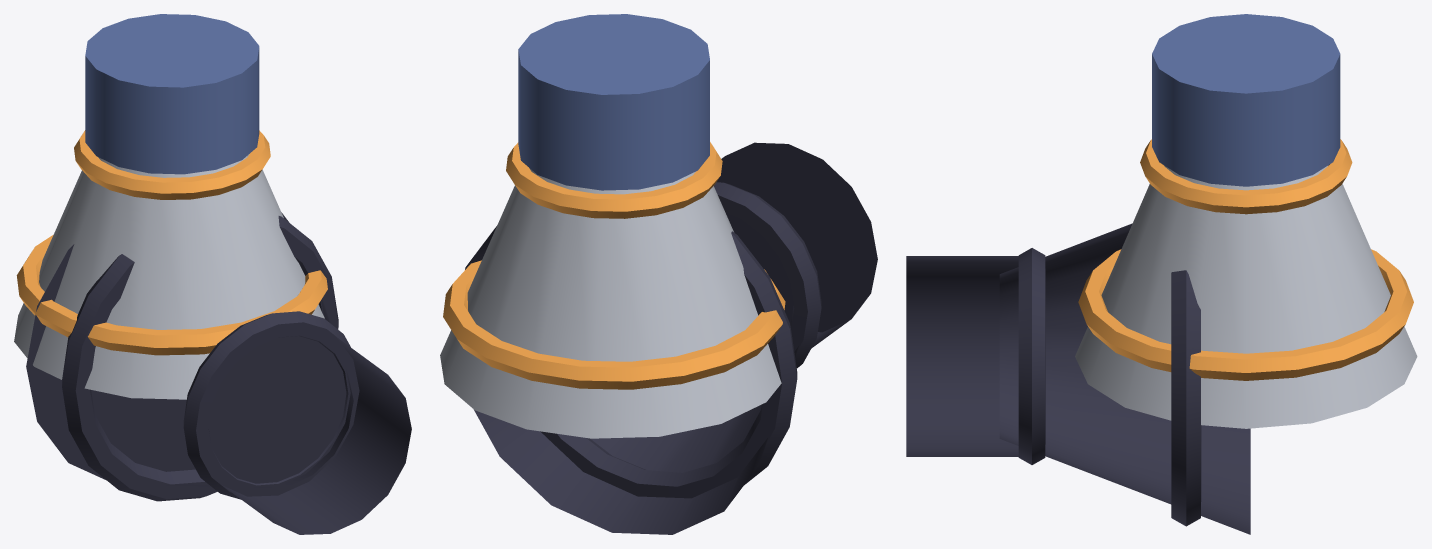
The model's file is Pieza_Motor.fbx.
3 renders of one model, left to right at view 1: azimuth 30°, elevation 25°; view 2: azimuth 150°, elevation 25°; view 3: azimuth 270°, elevation 25°, orthographic. The views are drawn at different scales.
Parts seen in each view (by area): view 1: Motor_Tobera, Motor_Camara_Contorno, Motor_Camara, Motor_Aro1_Contorno, Motor_Tobera_Contorno, Motor_Aro2_Contorno, Motor_Aro1, Motor_Aro2; view 2: Motor_Tobera, Motor_Camara, Motor_Tobera_Contorno, Motor_Camara_Contorno, Motor_Aro1, Motor_Aro1_Contorno, Motor_Aro2, Motor_Aro2_Contorno; view 3: Motor_Tobera, Motor_Camara, Motor_Tobera_Contorno, Motor_Camara_Contorno, Motor_Aro1, Motor_Aro1_Contorno, Motor_Aro2_Contorno, Motor_Aro2.
Boxes of the visible parts, x1,y1,x2,y2 form: Motor_Tobera: [14, 154, 324, 399]; Motor_Camara_Contorno: [208, 336, 411, 534]; Motor_Camara: [85, 14, 259, 174]; Motor_Aro1_Contorno: [62, 216, 338, 501]; Motor_Tobera_Contorno: [26, 212, 353, 487]; Motor_Aro2_Contorno: [183, 311, 359, 499]; Motor_Aro1: [16, 235, 327, 355]; Motor_Aro2: [74, 130, 270, 199]; Motor_Tobera: [440, 168, 781, 438]; Motor_Camara: [518, 14, 709, 190]; Motor_Tobera_Contorno: [465, 213, 798, 534]; Motor_Camara_Contorno: [717, 142, 877, 348]; Motor_Aro1: [443, 260, 785, 389]; Motor_Aro1_Contorno: [540, 231, 797, 498]; Motor_Aro2: [506, 142, 722, 218]; Motor_Aro2_Contorno: [714, 182, 821, 368]; Motor_Tobera: [1075, 165, 1417, 428]; Motor_Camara: [1152, 14, 1340, 186]; Motor_Tobera_Contorno: [999, 223, 1250, 534]; Motor_Camara_Contorno: [906, 256, 1018, 456]; Motor_Aro1: [1078, 249, 1413, 380]; Motor_Aro1_Contorno: [1171, 270, 1201, 526]; Motor_Aro2_Contorno: [1018, 248, 1045, 464]; Motor_Aro2: [1140, 139, 1352, 214].
Size of the model in its own units: 2.09 by 2.99 by 2.98.
